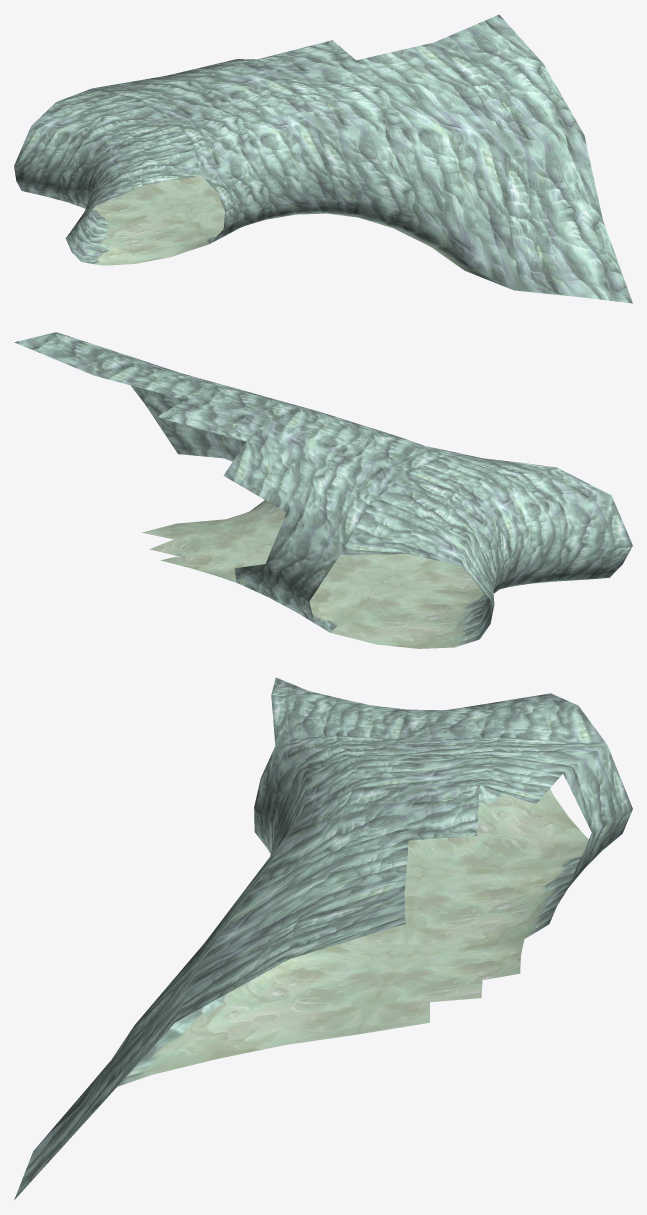
Rendered from TROLLHOLE02_PS-MAINCAVE02.fbx.
The picture shows the model from 3 angles, top to bottom: view 1: azimuth 30°, elevation 25°; view 2: azimuth 150°, elevation 25°; view 3: azimuth 270°, elevation 25°; orthographic projection. The views are drawn at different scales.
Parts seen in each view (by area): view 1: TROLLHOLE02_PS-MAINCAVE02; view 2: TROLLHOLE02_PS-MAINCAVE02; view 3: TROLLHOLE02_PS-MAINCAVE02.
Part boxes in pixels (x1=…): TROLLHOLE02_PS-MAINCAVE02: x1=14, y1=14, x2=632, y2=303; TROLLHOLE02_PS-MAINCAVE02: x1=14, y1=332, x2=632, y2=648; TROLLHOLE02_PS-MAINCAVE02: x1=14, y1=677, x2=632, y2=1199.
Bounding box in the file's own units: 285949 × 108823 × 220157.
Materials: 3 (3 with a texture image).
